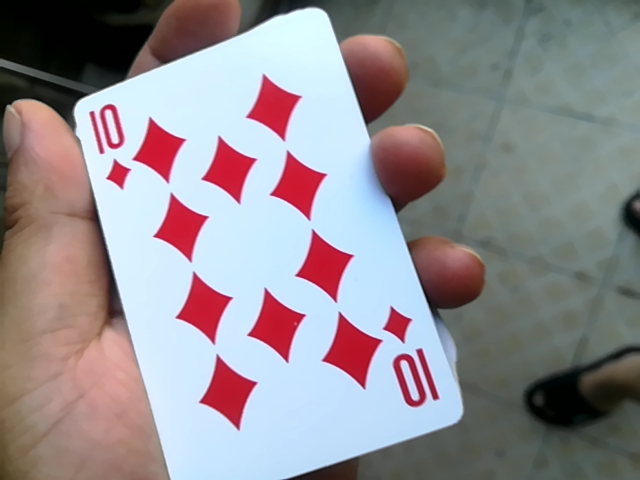fk 10: (53, 12, 440, 476)
